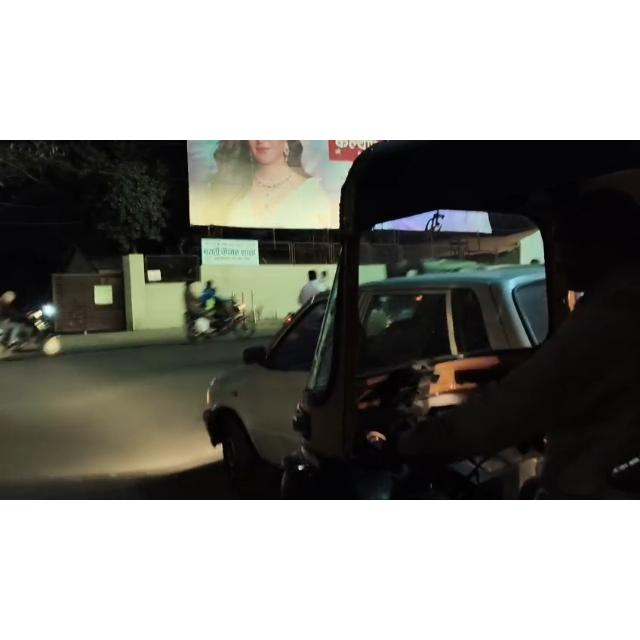auto: (271, 139, 640, 500)
car: (195, 266, 579, 482)
